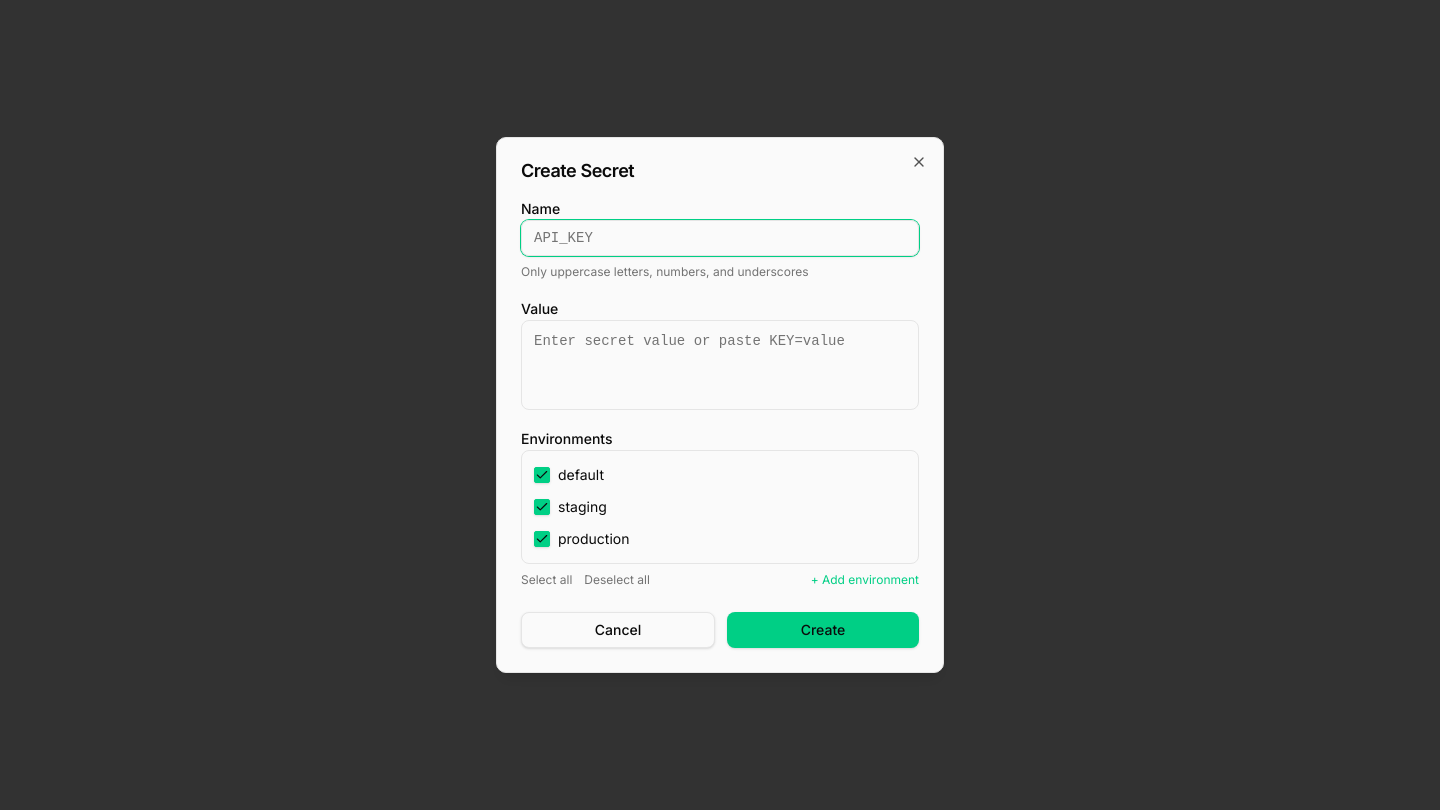
Test: SecretModal › environment selection › should select all environments
// First deselect all
Click the button "Deselect all".
click(617, 580)  # box [584,572,650,588]
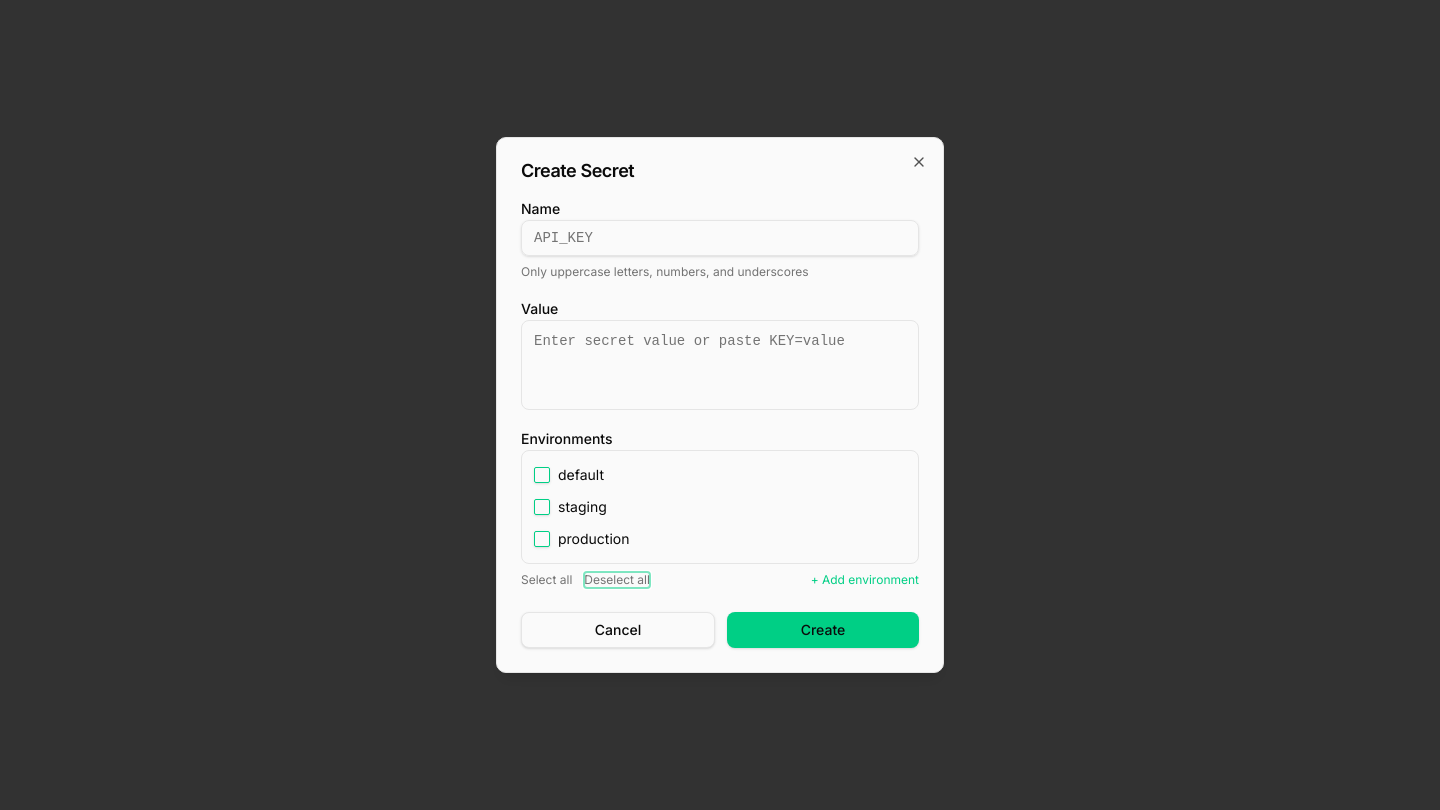
Expected: the checkbox named "default" next to "default" is not checked, [534,467,550,483]
Expected: the checkbox named "staging" next to "staging" is not checked, [534,499,550,515]
Expected: the checkbox named "production" next to "production" is not checked, [534,531,550,547]
// Then select all
Click the button "Select all".
click(547, 580)  # box [521,572,572,588]
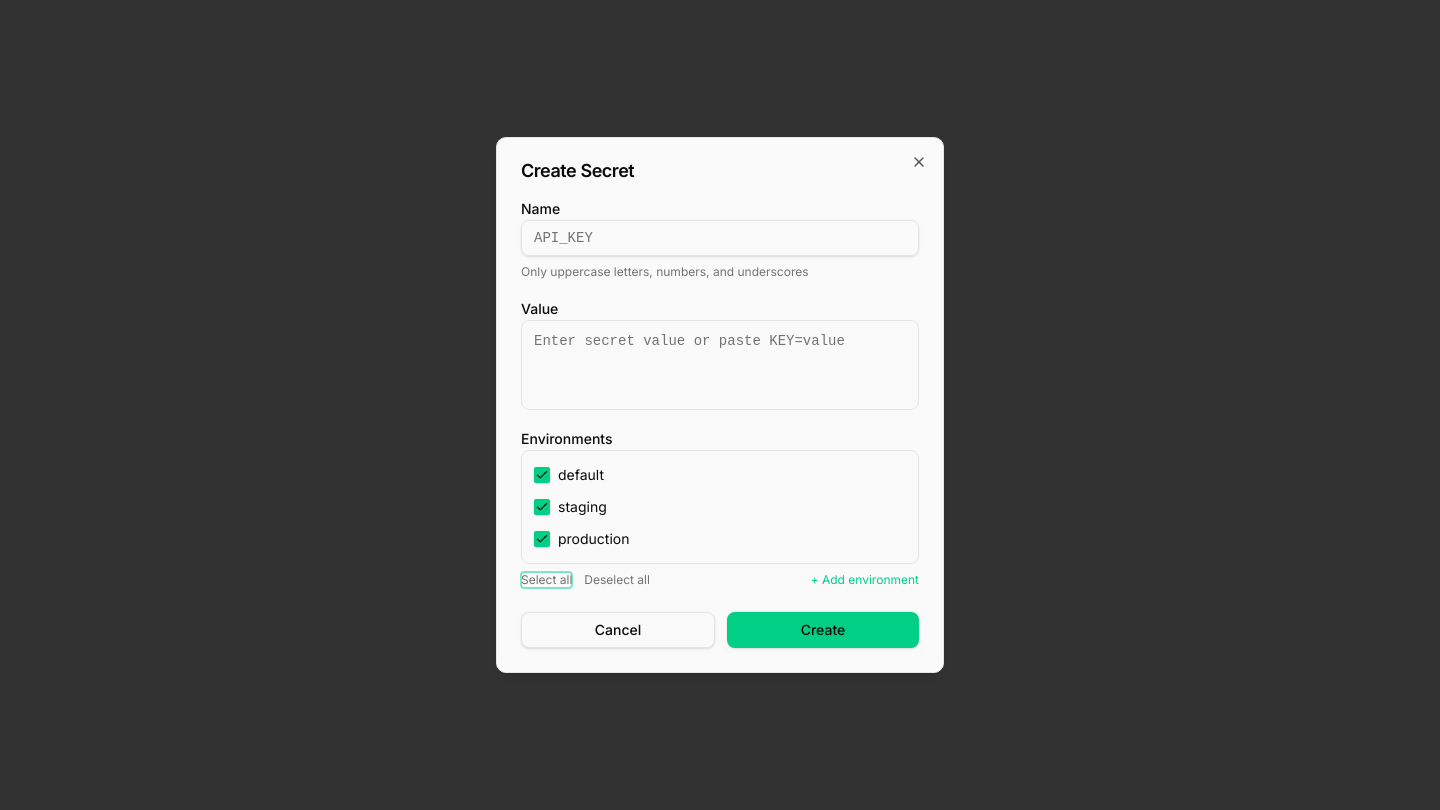
Expected: the checkbox named "default" next to "default" is checked, [534,467,550,483]
Expected: the checkbox named "staging" next to "staging" is checked, [534,499,550,515]
Expected: the checkbox named "production" next to "production" is checked, [534,531,550,547]
